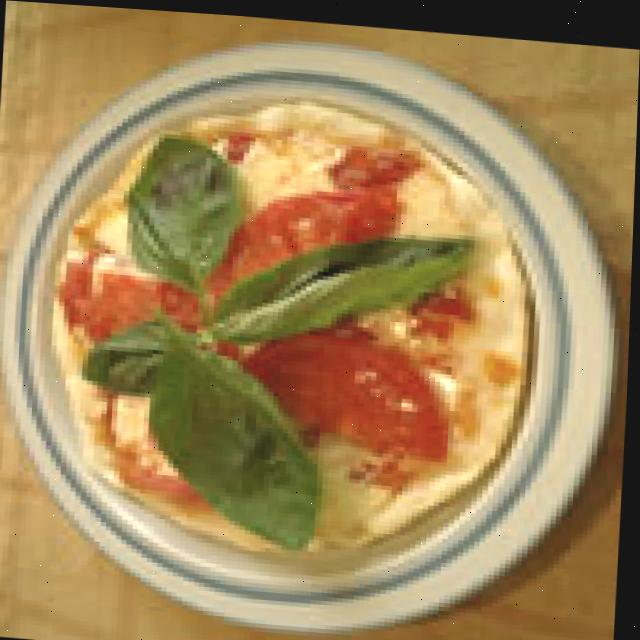汉堡快餐: (24, 73, 551, 565)
